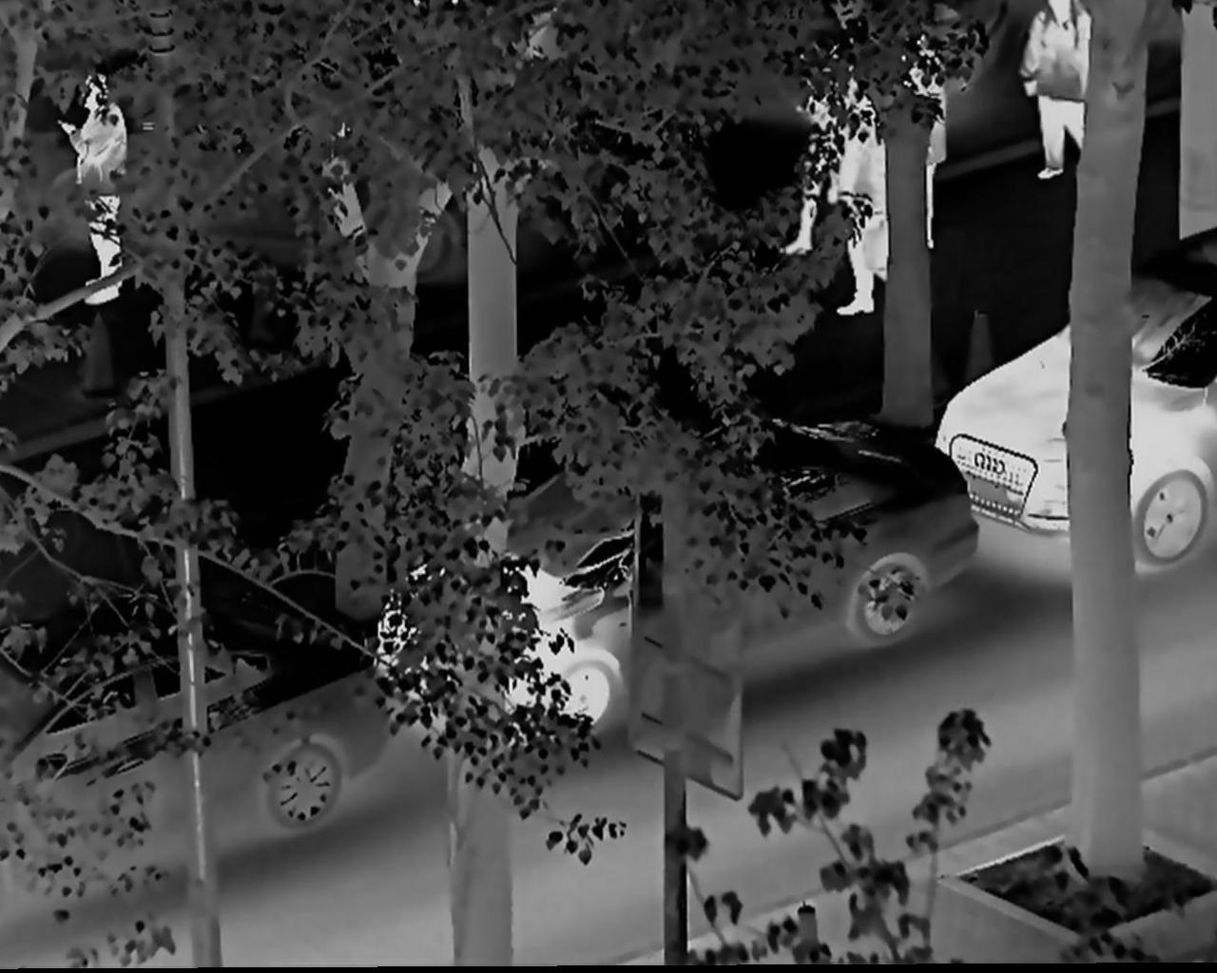person: (789, 45, 904, 315), (48, 65, 144, 315)
